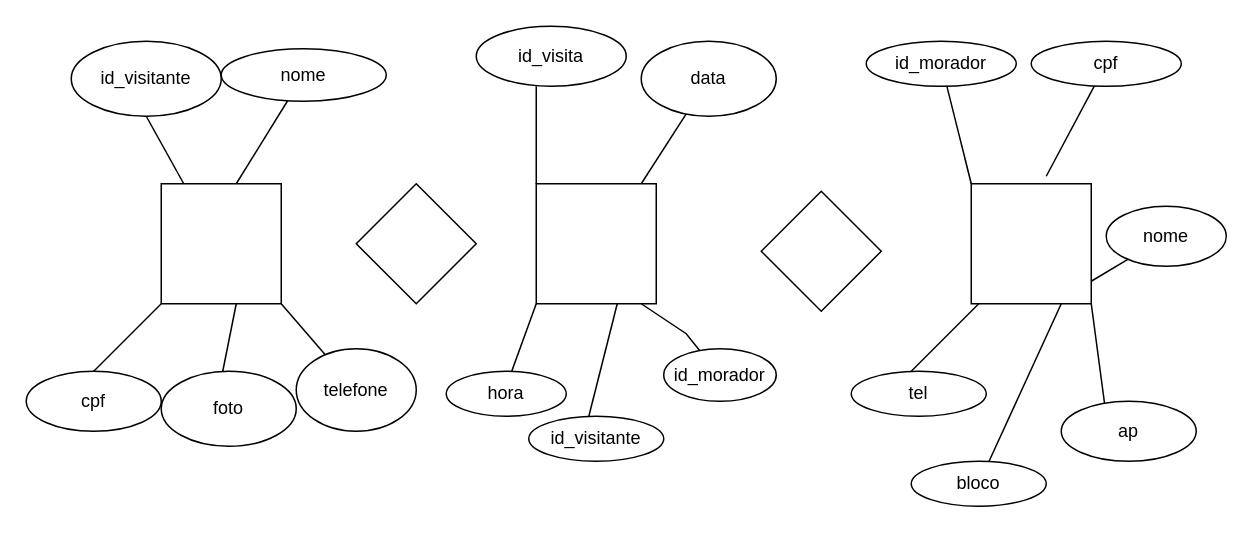
This 1253x533 diagram has some shape labels left out. Each missing label, with the centre of its shape:
"MORADOR" goes at (1030,243).
"VISITA" goes at (595,243).
"VISITANTE" goes at (220,243).
